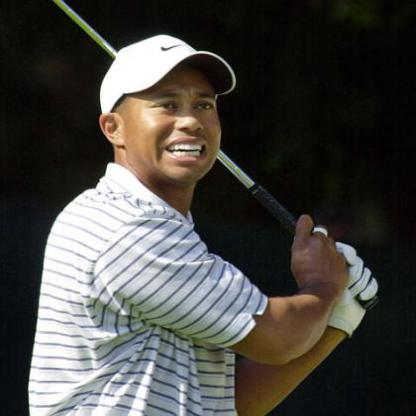face: (120, 38, 231, 188)
